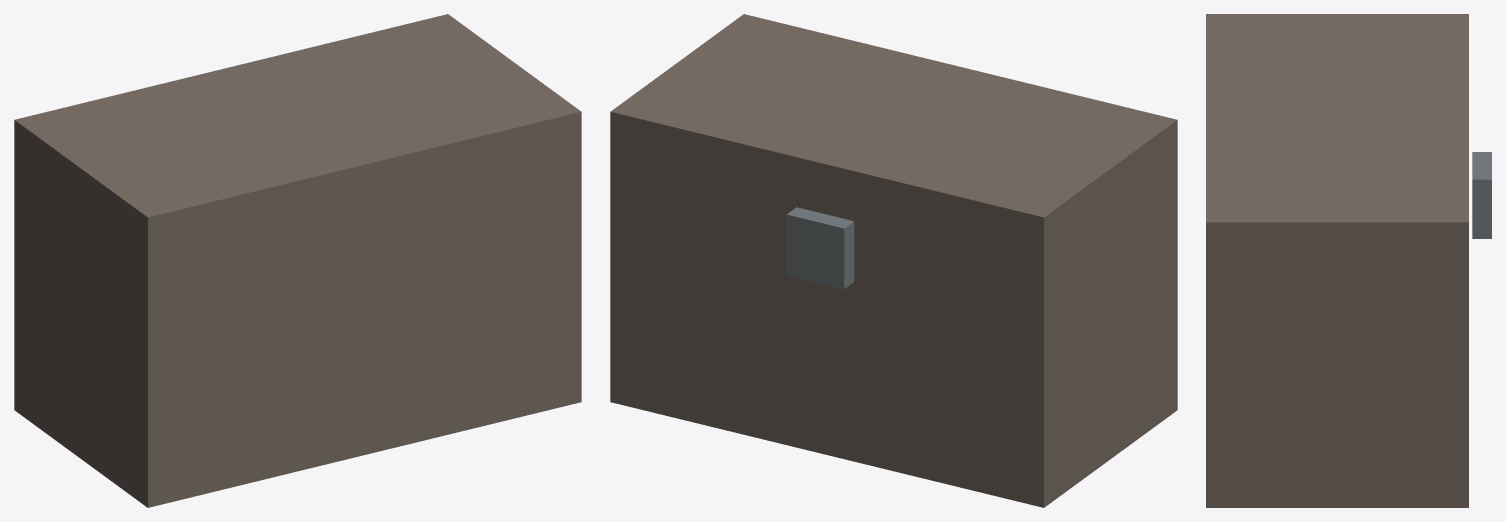
File: storage_trunk.glb
The picture shows the model from 3 angles, left to right: view 1: azimuth 30°, elevation 25°; view 2: azimuth 150°, elevation 25°; view 3: azimuth 270°, elevation 25°; orthographic projection.
Parts seen in each view (by area): view 1: body, lid; view 2: body, lid; view 3: body, lid.
Part boxes in pixels (x1,y1,x2,y2): body: [14, 127, 581, 507]; lid: [14, 14, 581, 244]; body: [610, 127, 1177, 507]; lid: [610, 14, 1177, 247]; body: [1206, 152, 1491, 507]; lid: [1206, 14, 1468, 251].
Bounding box in the file's own units: 0.75 × 0.48 × 0.435.
